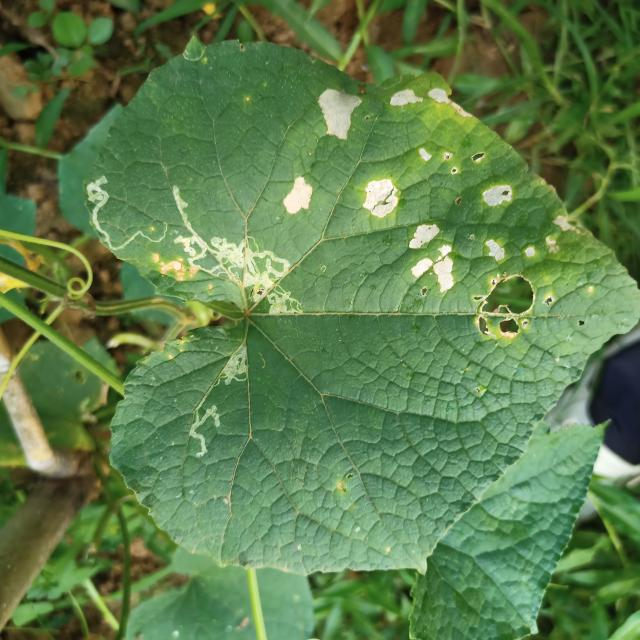disease_cucumber: (316, 78, 580, 344), (275, 172, 319, 218)
